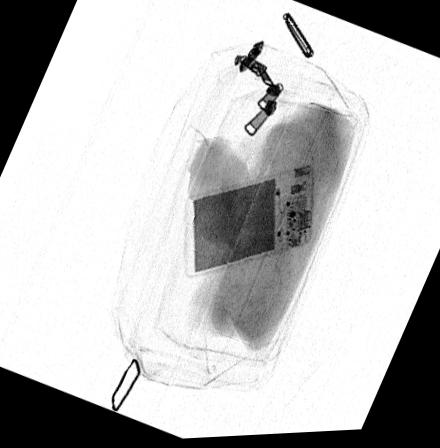Powerbank: (184, 165, 313, 279)
